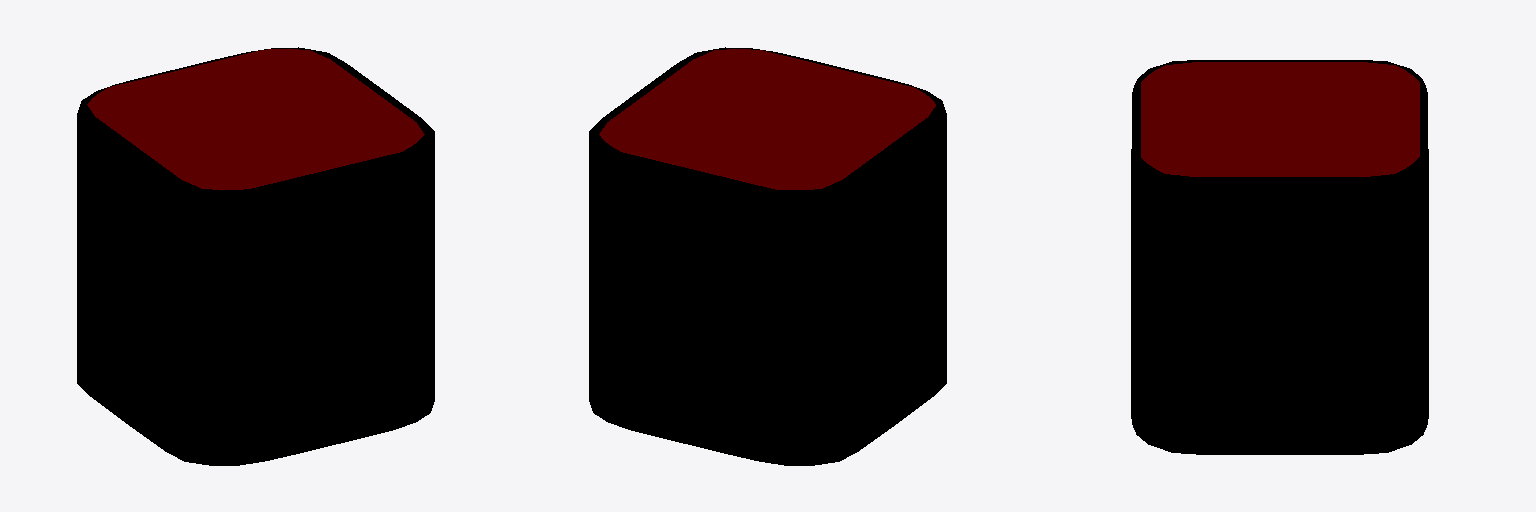
File: centerR.obj
3 renders of one model, left to right at view 1: azimuth 30°, elevation 25°; view 2: azimuth 150°, elevation 25°; view 3: azimuth 270°, elevation 25°, orthographic.
Parts seen in each view (by area): view 1: BasicCenter_Plane.007, CenterSide_Plane.010; view 2: BasicCenter_Plane.007, CenterSide_Plane.010; view 3: BasicCenter_Plane.007, CenterSide_Plane.010.
Part boxes in pixels (bbox=[...]): BasicCenter_Plane.007: bbox=[77, 47, 434, 465]; CenterSide_Plane.010: bbox=[87, 49, 424, 189]; BasicCenter_Plane.007: bbox=[589, 47, 946, 465]; CenterSide_Plane.010: bbox=[599, 49, 935, 189]; BasicCenter_Plane.007: bbox=[1131, 60, 1428, 454]; CenterSide_Plane.010: bbox=[1141, 62, 1419, 176].
Size of the model in its own units: 0.18 by 0.1815 by 0.18.